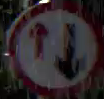Two way: (12, 3, 99, 90)
